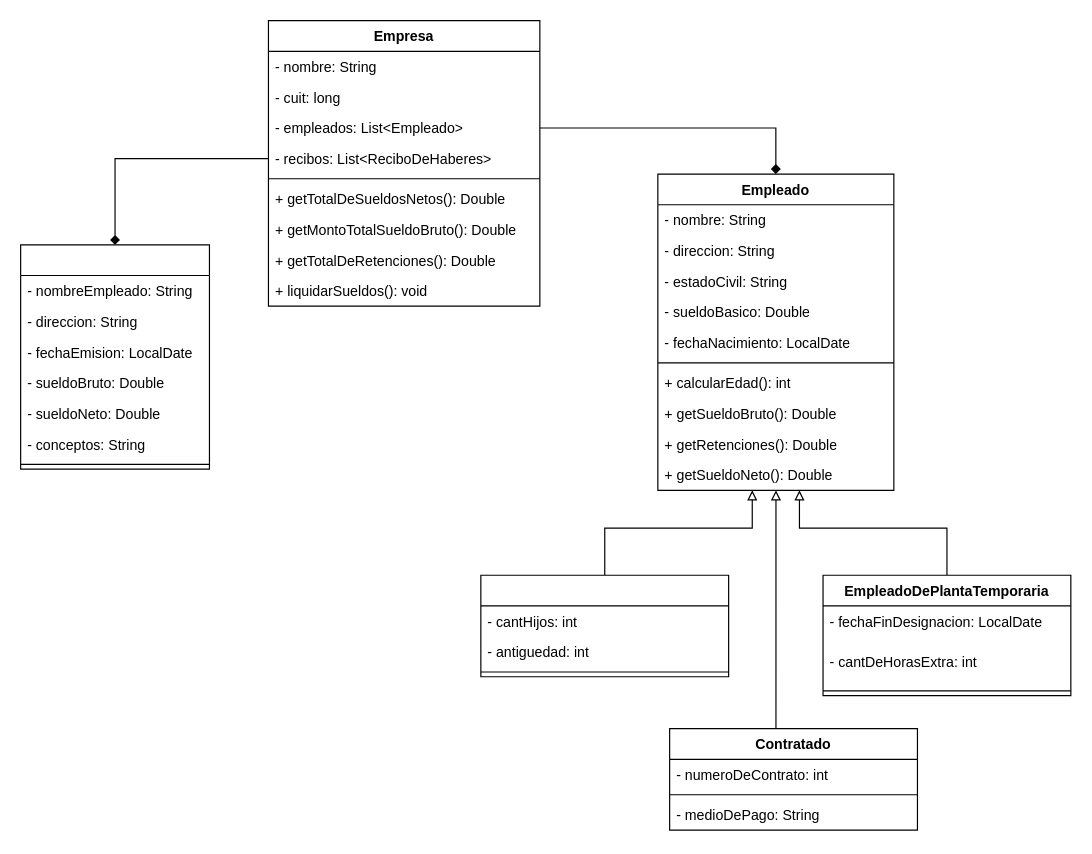
Some shapes in this 1092 by 854 pixel diagram are drawn without their labels. The shapes that lost their labels are listed below. From the top down, each one's box as (x1, y1, x2, y2) in pixels, then its label:
(19, 244, 209, 469): ReciboDeHaberes
(480, 574, 729, 677): EmpleadoDePlantaPermanente
